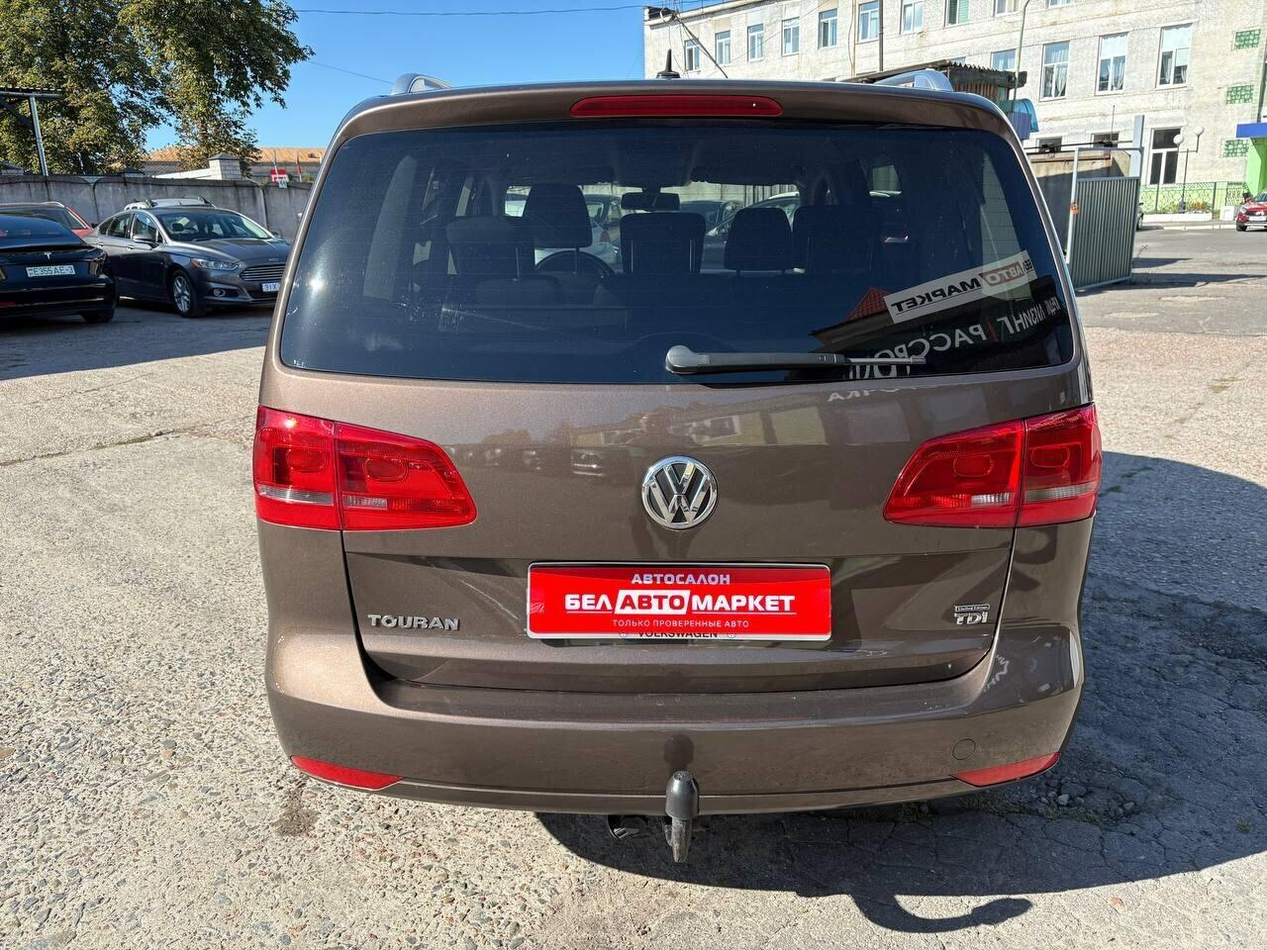Touran_2010-2015: (249, 73, 1102, 840)
